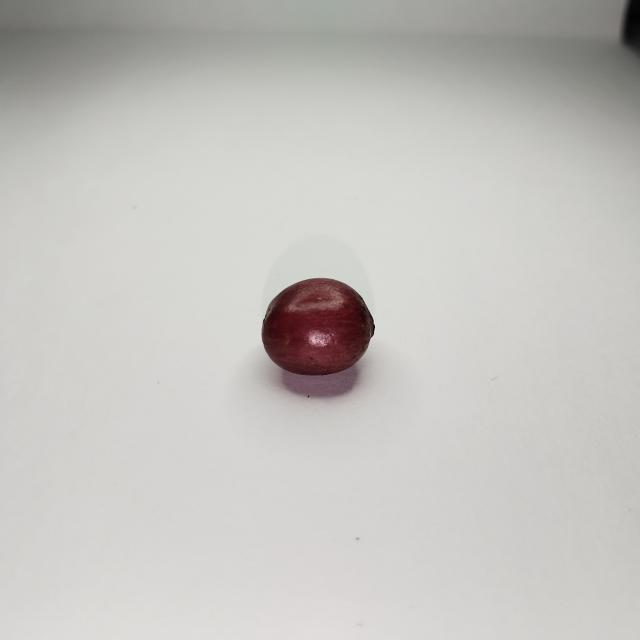Sano: (262, 278, 374, 380)
